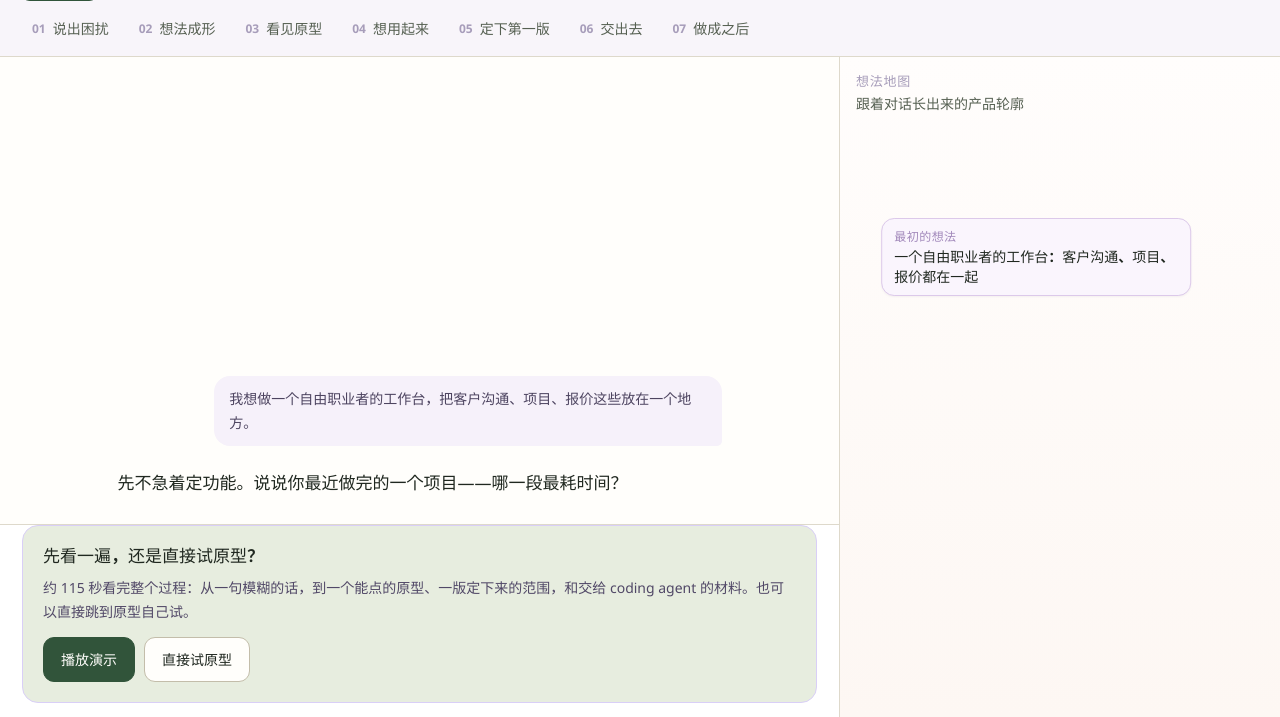
Test case: watching › holds the half-typed line on pause and continues from the same character
(page scrolled)
Click the button "播放演示" at (89, 660), box [43,637,135,682]
Wait 600000 ms
(page scrolled)
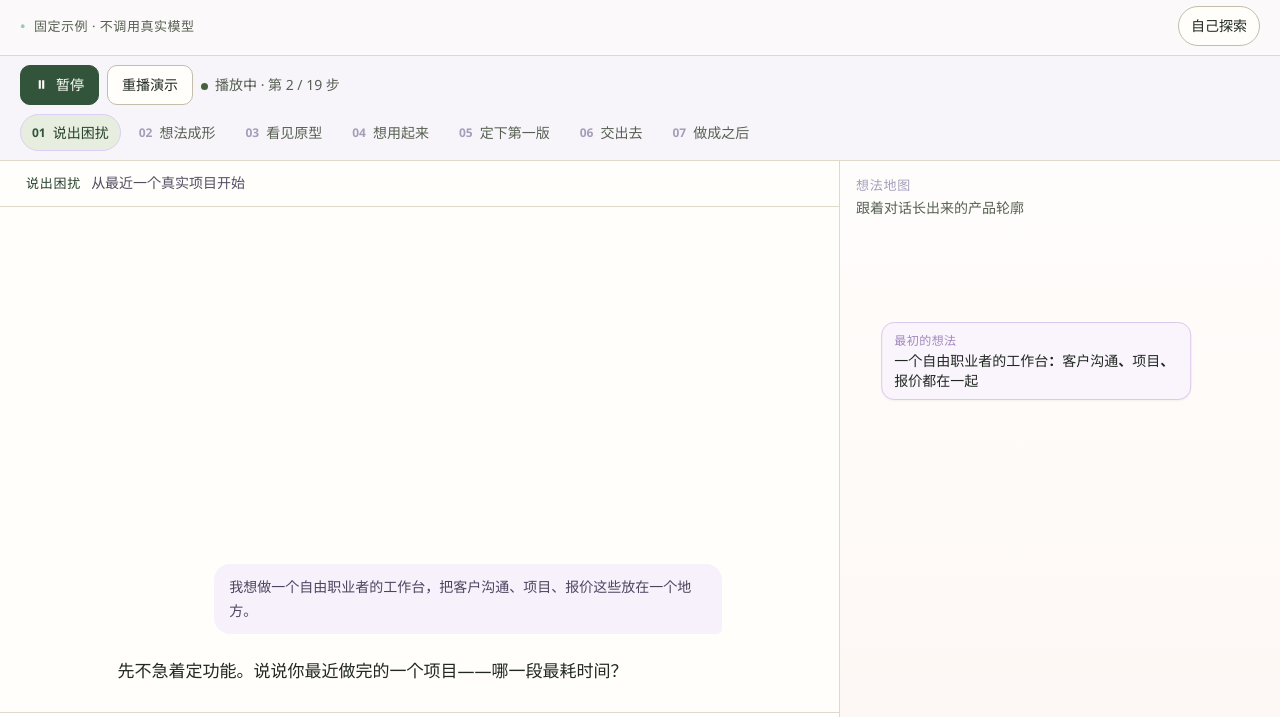
Click the button with class "transport-play" at (60, 85), box [20,65,99,105]
Wait 240000 ms
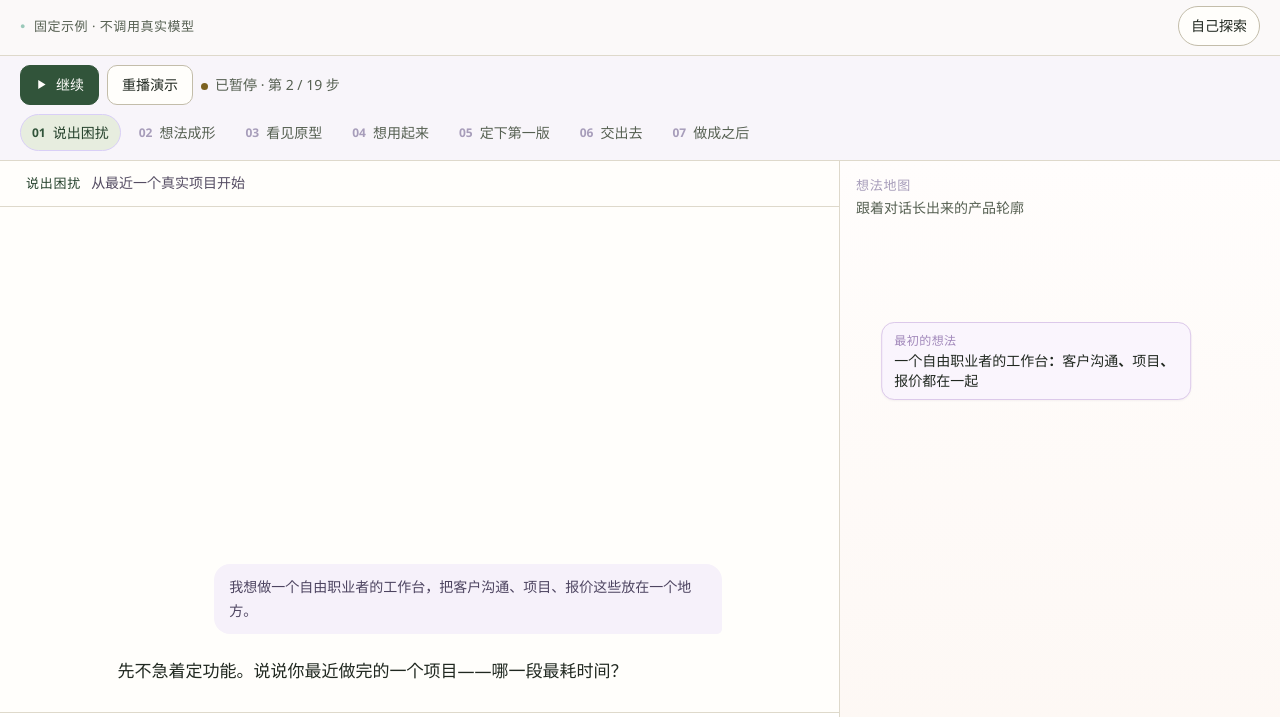
Now the text with class "transport-status" shows "已暂停", box [215,75,340,94]
Click the button with class "transport-play" at (60, 85), box [20,65,99,105]
Wait 120000 ms
(page scrolled)
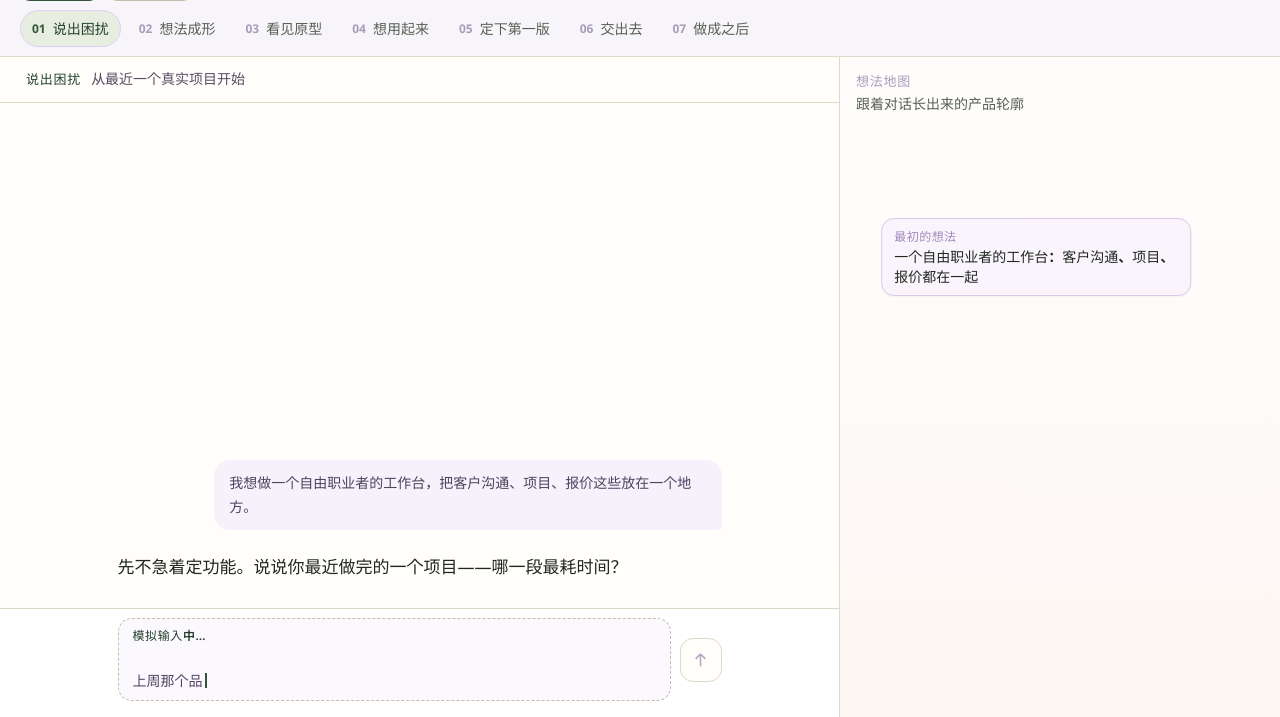
Now the element with class "compose-demo-text" reads "上周那个品", box [132,671,202,690]
